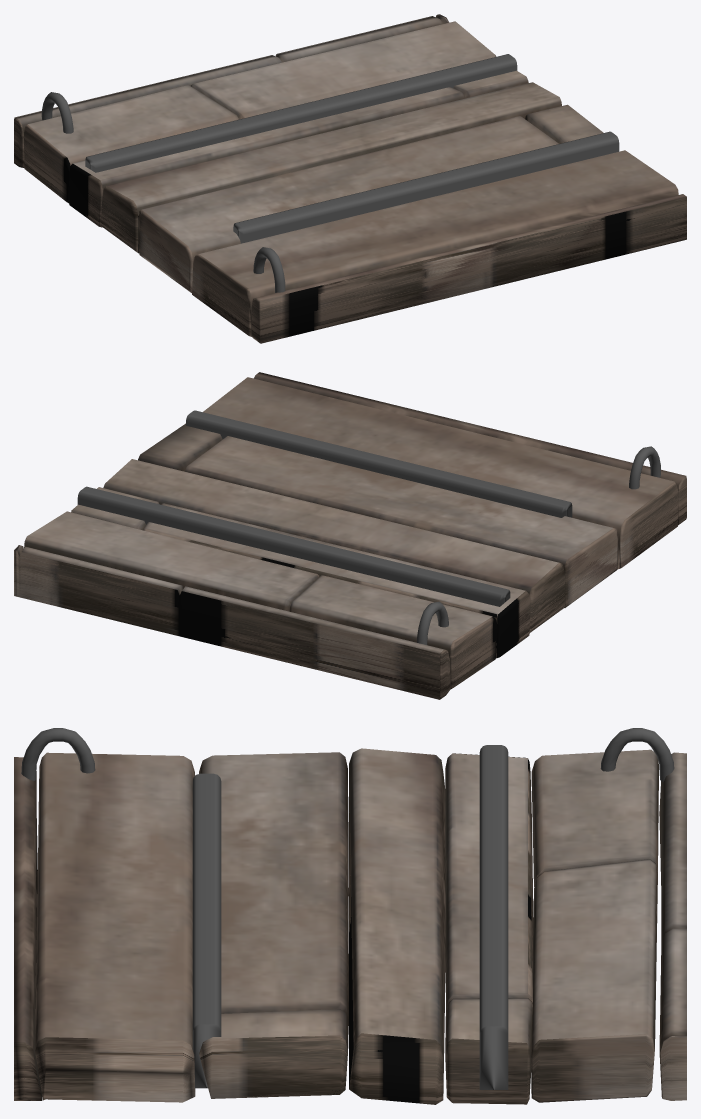
Rendered from cellarDoor.fbx.
3 views of the same model, one above another, from view 1: azimuth 30°, elevation 25°; view 2: azimuth 150°, elevation 25°; view 3: azimuth 270°, elevation 25° (orthographic). The views are drawn at different scales.
Parts seen in each view (by area): view 1: GEO_chain5Shape; view 2: GEO_chain5Shape; view 3: GEO_chain5Shape.
Part boxes in pixels (box(x1,y1,x2,y2)): GEO_chain5Shape: box(14, 14, 686, 343); GEO_chain5Shape: box(14, 372, 686, 699); GEO_chain5Shape: box(14, 728, 686, 1104).
Size of the model in its own units: 161 by 28.42 by 159.
Materials: 2 (1 with a texture image).
